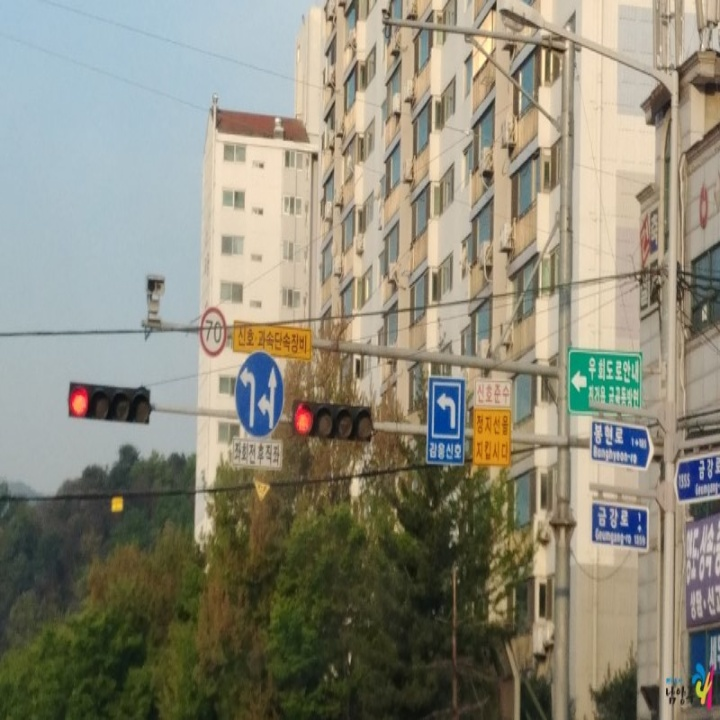left: (231, 362, 263, 430), (431, 386, 462, 431)
